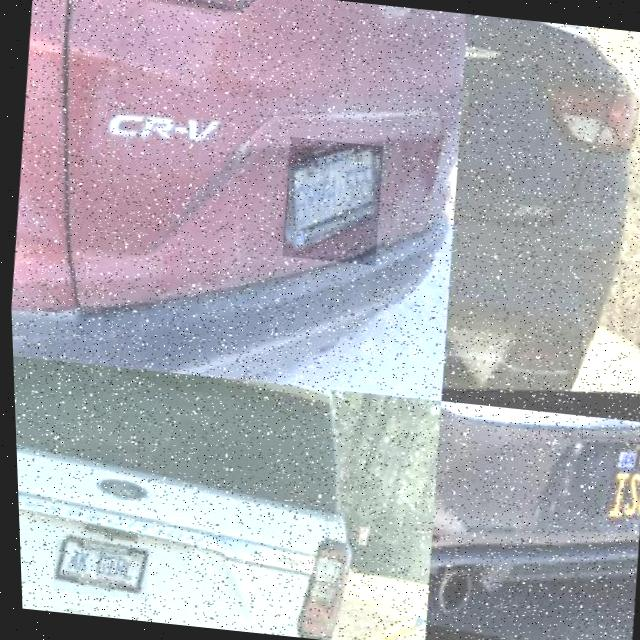LicensePlate: (287, 146, 376, 257), (49, 539, 144, 599)
